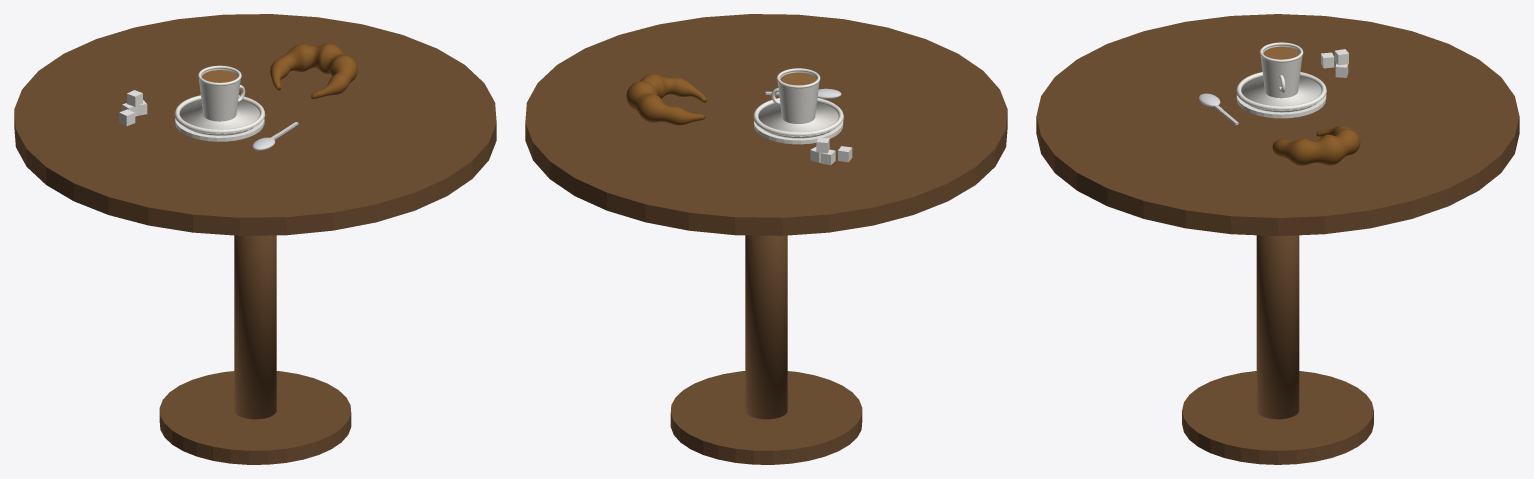
3 renders of one model, left to right at view 1: azimuth 30°, elevation 25°; view 2: azimuth 150°, elevation 25°; view 3: azimuth 270°, elevation 25°, orthographic.
Visible parts, largest first — view 1: TableTop, TableBase, TableColumn, Croissant, SaucerLip, CupBody, SaucerRim, SaucerBase; view 2: TableTop, TableBase, TableColumn, Croissant, SaucerLip, CupBody, SaucerRim, SaucerBase; view 3: TableTop, TableBase, TableColumn, Croissant, SaucerLip, CupBody, SaucerRim, SaucerBase.
Part boxes in pixels (left/top/right/bottom): TableTop: left=14, top=14, right=496, bottom=235; TableBase: left=159, top=371, right=351, bottom=464; TableColumn: left=234, top=235, right=276, bottom=419; Croissant: left=270, top=43, right=357, bottom=98; SaucerLip: left=174, top=99, right=265, bottom=135; CupBody: left=199, top=69, right=240, bottom=121; SaucerRim: left=174, top=95, right=264, bottom=134; SaucerBase: left=175, top=118, right=264, bottom=141; TableTop: left=525, top=14, right=1007, bottom=235; TableBase: left=670, top=371, right=862, bottom=464; TableColumn: left=745, top=235, right=787, bottom=419; Croissant: left=626, top=73, right=706, bottom=125; SaucerLip: left=753, top=102, right=843, bottom=138; CupBody: left=777, top=71, right=819, bottom=123; SaucerRim: left=753, top=98, right=843, bottom=136; SaucerBase: left=754, top=121, right=843, bottom=144; TableTop: left=1036, top=14, right=1519, bottom=235; TableBase: left=1182, top=371, right=1373, bottom=464; TableColumn: left=1256, top=235, right=1299, bottom=419; Croissant: left=1272, top=125, right=1360, bottom=165; SaucerLip: left=1236, top=76, right=1326, bottom=112; CupBody: left=1260, top=45, right=1302, bottom=98; SaucerRim: left=1236, top=72, right=1326, bottom=110; SaucerBase: left=1236, top=95, right=1326, bottom=118.
Size of what is drawn, in the model's own units: 0.68 by 0.5542 by 0.68.
